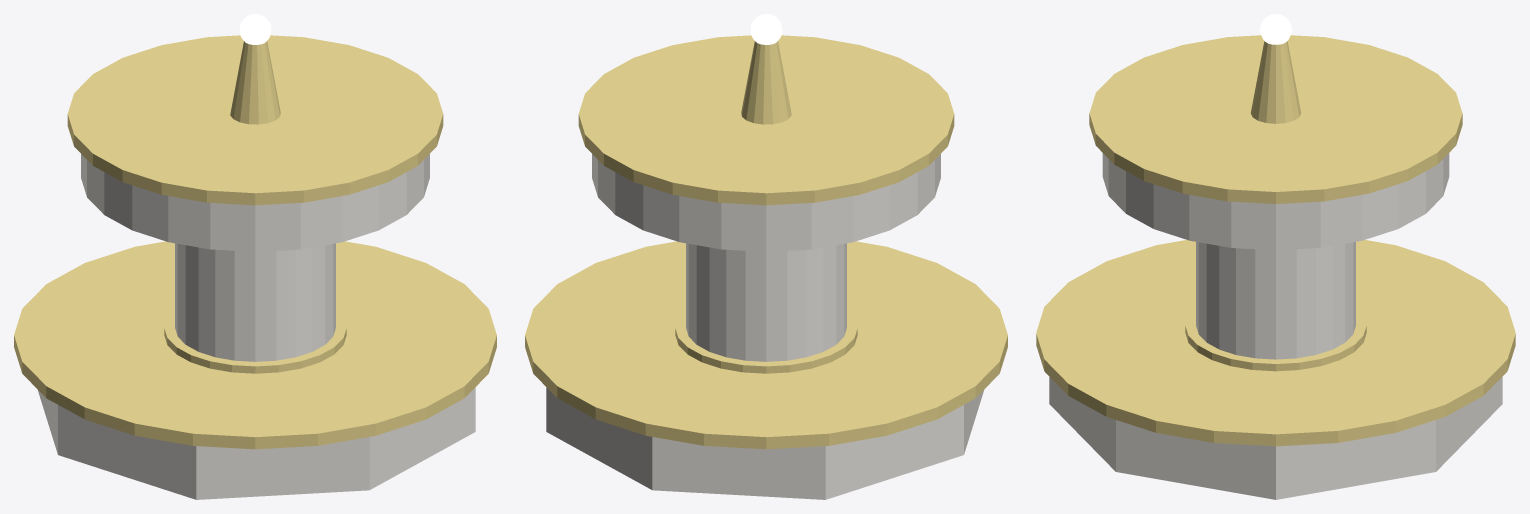
The model's file is PureWaterFont.fbx.
3 views of the same model, side by side, from view 1: azimuth 30°, elevation 25°; view 2: azimuth 150°, elevation 25°; view 3: azimuth 270°, elevation 25° (orthographic).
Parts seen in each view (by area): view 1: PureWaterFont; view 2: PureWaterFont; view 3: PureWaterFont.
Boxes of the visible parts, x1,y1,x2,y2 form: PureWaterFont: [14, 14, 496, 499]; PureWaterFont: [525, 14, 1007, 499]; PureWaterFont: [1036, 14, 1515, 499].
Size of the model in its own units: 180 by 161 by 180.
